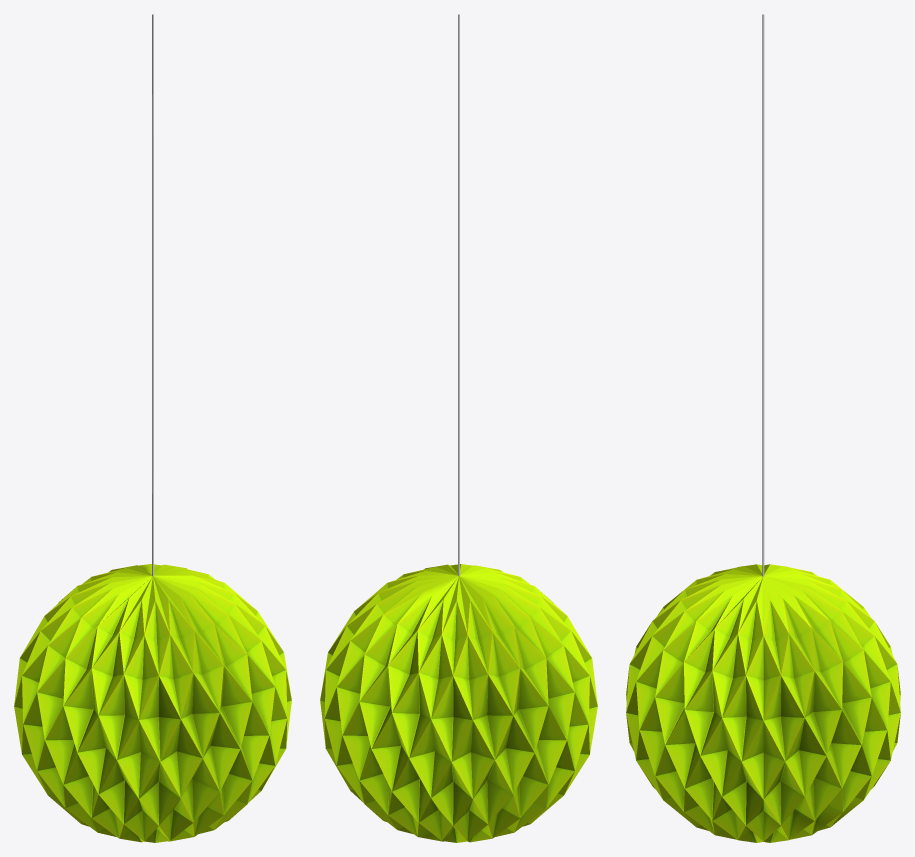
File: PartyHangings01D_1.FBX
The picture shows the model from 3 angles, left to right: view 1: azimuth 30°, elevation 25°; view 2: azimuth 150°, elevation 25°; view 3: azimuth 270°, elevation 25°; orthographic projection.
Parts seen in each view (by area): view 1: PartyHangings01D_1; view 2: PartyHangings01D_1; view 3: PartyHangings01D_1.
Boxes of the visible parts, box(x1,y1,x2,y2) form: PartyHangings01D_1: box(14, 14, 291, 842); PartyHangings01D_1: box(320, 14, 597, 842); PartyHangings01D_1: box(626, 14, 900, 842).
Size of what is drawn, in the model's own units: 0.3614 by 1.19 by 0.3614.
